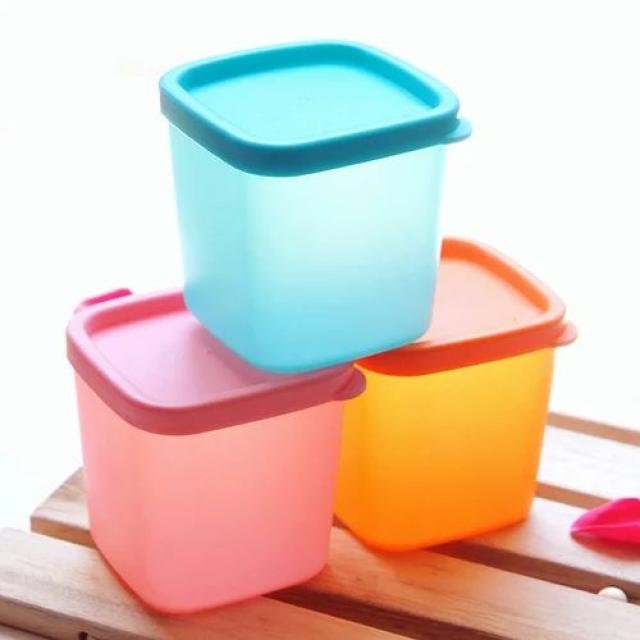plastic_box: (132, 61, 464, 322), (79, 285, 354, 587), (353, 263, 592, 545)
